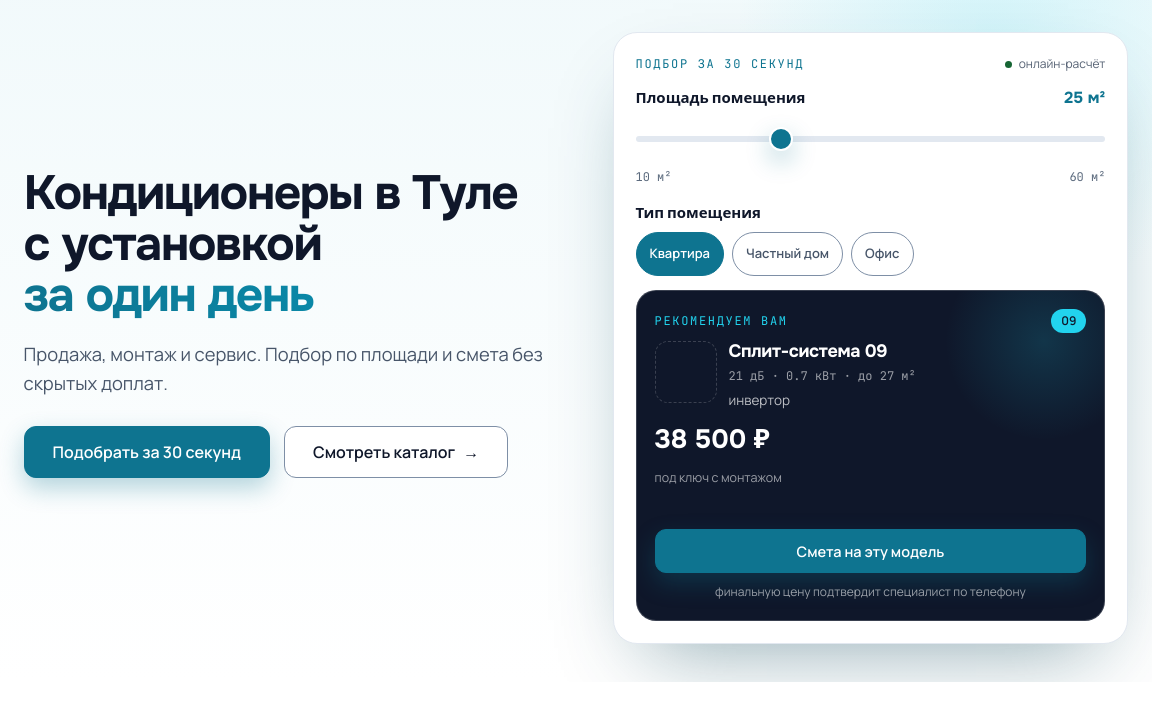
Test case: Первый экран › подбирает модель по площади и меняет рекомендацию вслед за ползунком
Expected: the heading "Сплит-система 09" is shown, [728, 340, 887, 362]
Step 1. Set the slider to "40" → [916, 139], box [636, 117, 1105, 161]
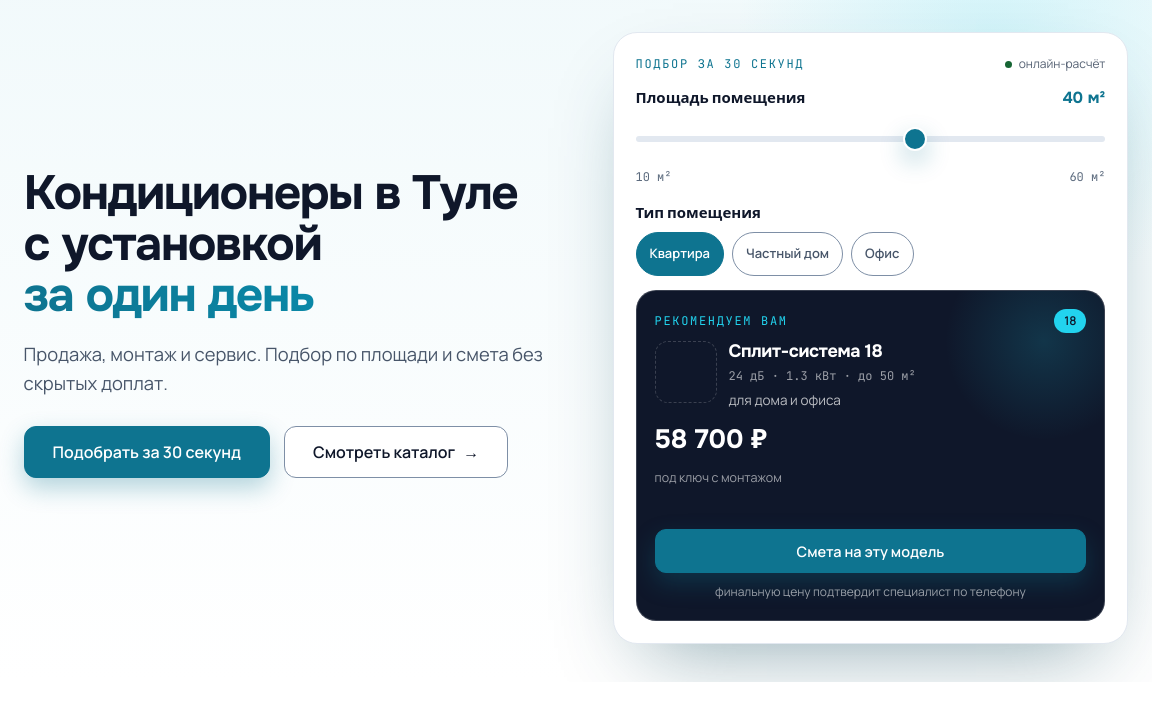
Expected: the heading "Сплит-система 18" is shown, [728, 340, 882, 362]
Step 2. Set the slider to "15" → [689, 139], box [636, 117, 1105, 161]
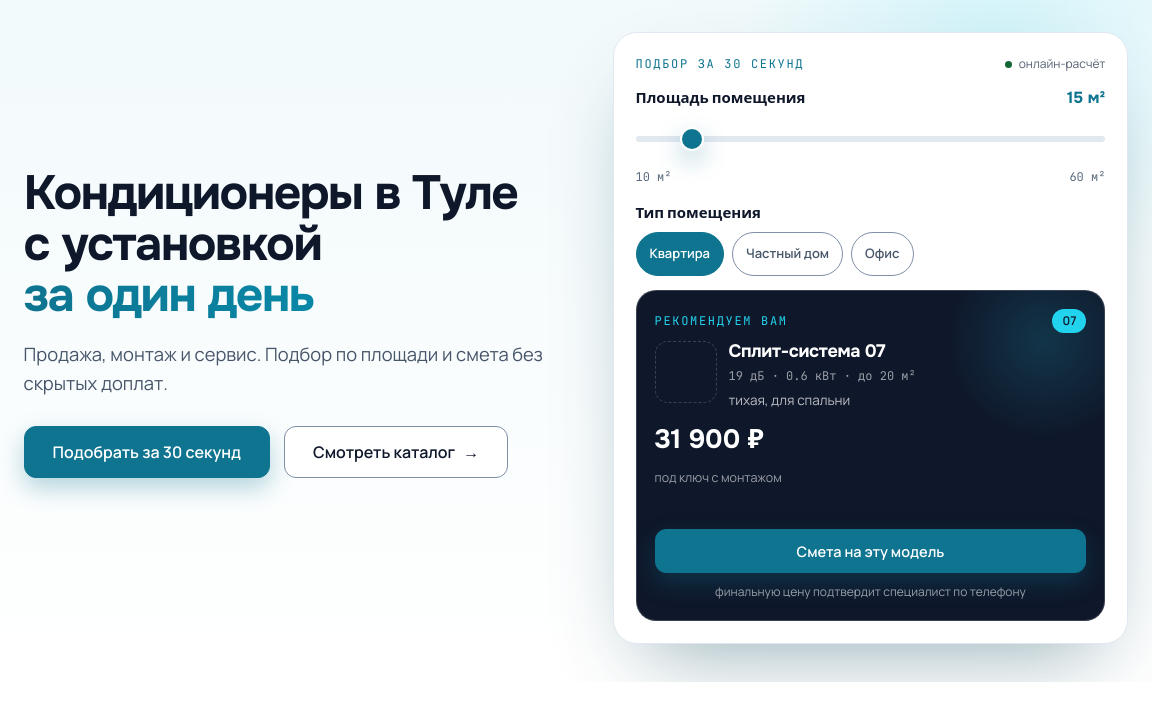
Expected: the heading "Сплит-система 07" is shown, [728, 340, 885, 362]
